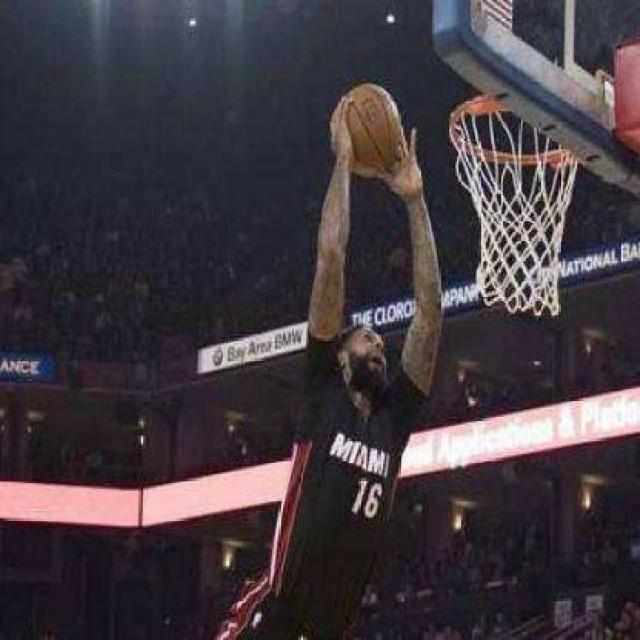basketball: (332, 86, 403, 174)
rim: (448, 99, 578, 314)
